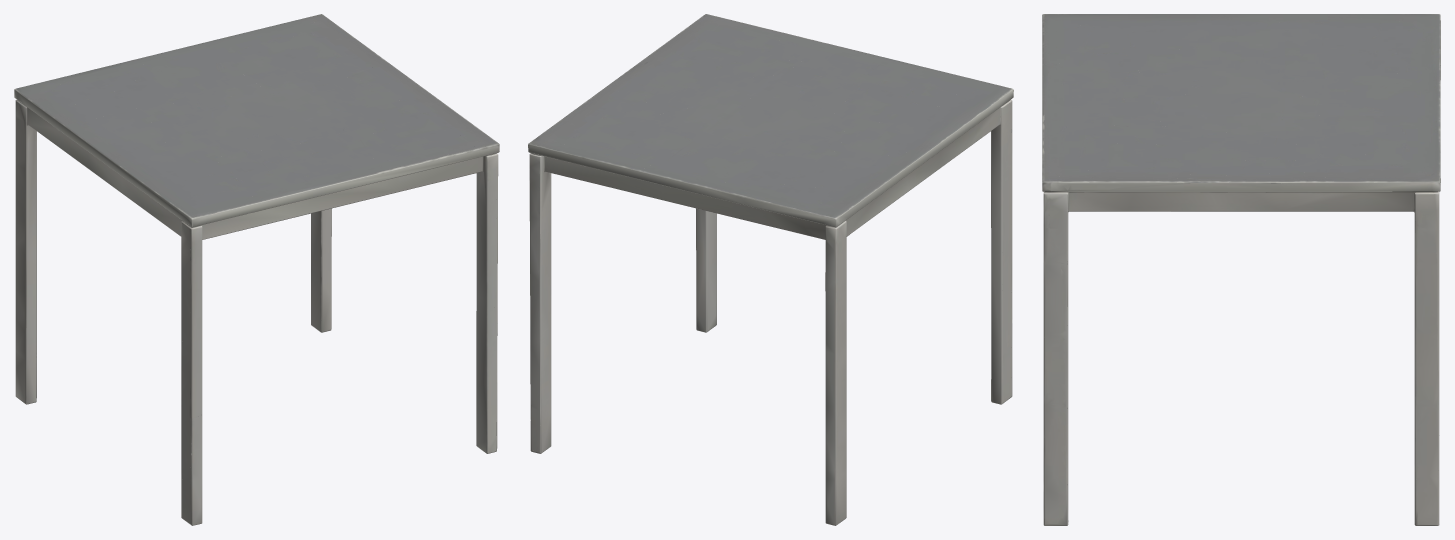
Rendered from table.glb.
3 views of the same model, side by side, from view 1: azimuth 30°, elevation 25°; view 2: azimuth 150°, elevation 25°; view 3: azimuth 270°, elevation 25° (orthographic). The views are drawn at different scales.
Parts seen in each view (by area): view 1: material; view 2: material; view 3: material.
Part boxes in pixels (<box>): material: <box>14,14,499,525</box>; material: <box>528,14,1013,525</box>; material: <box>1042,14,1440,525</box>.
Size of the model in its own units: 0.7052 by 0.6744 by 0.7051.
1 material, 1 textured.
